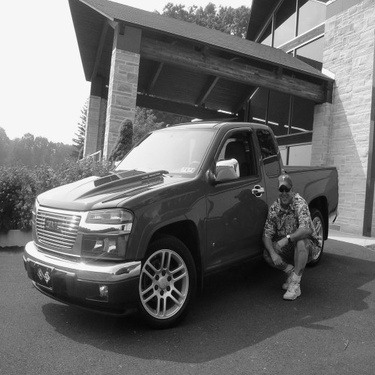car: (9, 106, 358, 321)
